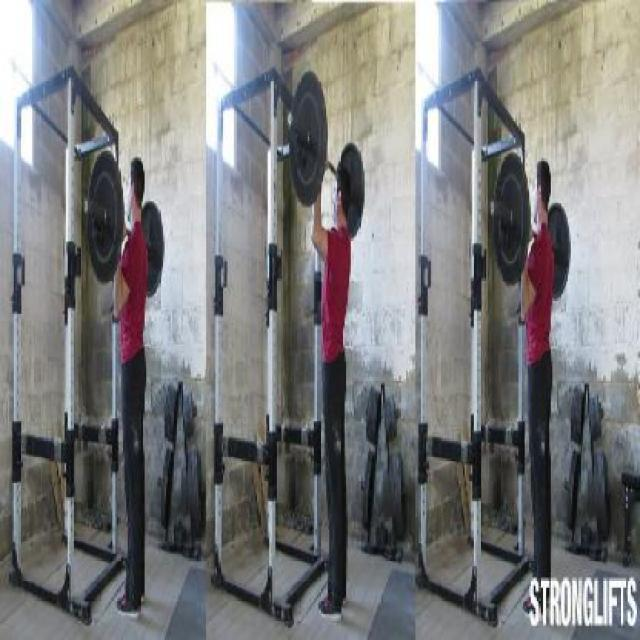Barbell: (283, 91, 317, 171), (488, 178, 520, 252), (80, 177, 112, 243)
